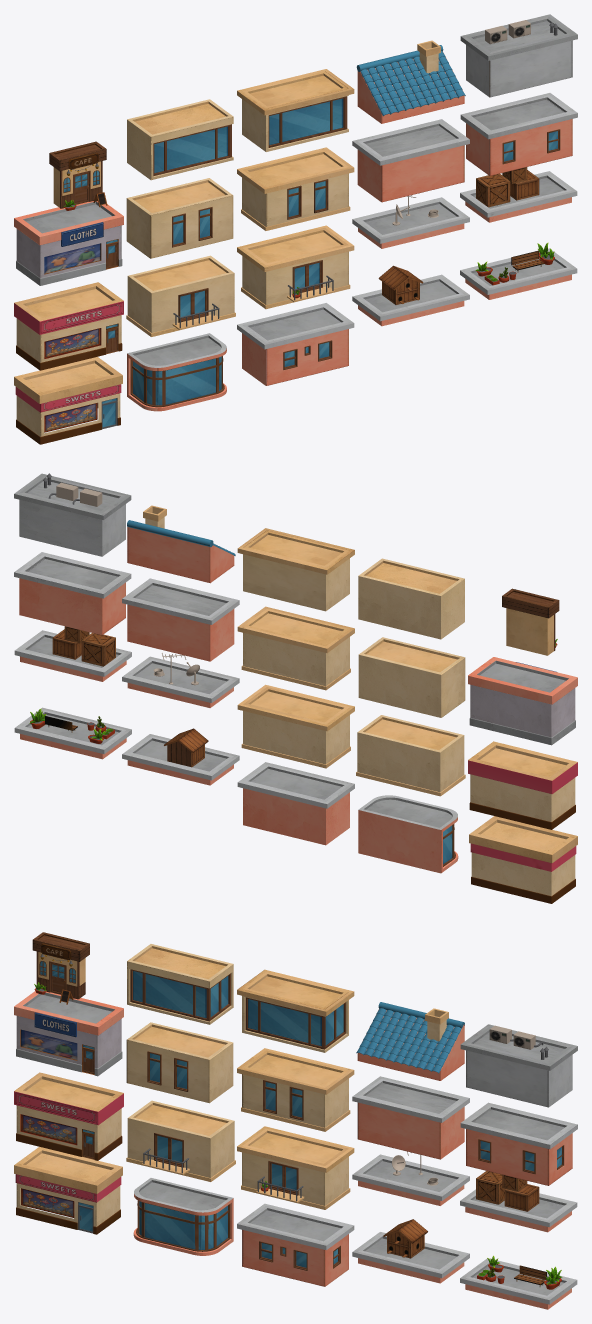
Rendered from City_Game_ready_free.glb.
3 views of the same model, one above another, from view 1: azimuth 30°, elevation 25°; view 2: azimuth 150°, elevation 25°; view 3: azimuth 330°, elevation 25° (orthographic).
Parts seen in each view (by area): view 1: Building.001_Atlas_0, Building.013_Atlas_0, Building.002_Atlas_0, Cube.002_Plate_Atlas_0, Cube.002_Plate.001_Atlas_0, Cube.002_Plate.006_Atlas_0, Cube.002_Plate.005_Atlas_0, Cube.002_Plate.007_Atlas_0, Cube.002_Plate.004_Atlas_0, Cube.002_Plate.002_Atlas_0, Cube_Atlas_0, Cube.002_Plate.003_Atlas_0 (+11 smaller); view 2: Building.001_Atlas_0, Building.002_Atlas_0, Building.013_Atlas_0, Cube.002_Plate.001_Atlas_0, Cube.002_Plate_Atlas_0, Cube.002_Plate.006_Atlas_0, Cube.002_Plate.004_Atlas_0, Cube.002_Plate.005_Atlas_0, Cube.002_Plate.007_Atlas_0, Cube.002_Plate.002_Atlas_0, Cube_Atlas_0, Cube.002_Plate.003_Atlas_0 (+11 smaller); view 3: Building.001_Atlas_0, Building.013_Atlas_0, Building.002_Atlas_0, Cube.002_Plate_Atlas_0, Cube.002_Plate.001_Atlas_0, Cube.002_Plate.006_Atlas_0, Cube.002_Plate.005_Atlas_0, Cube.002_Plate.004_Atlas_0, Cube.002_Plate.007_Atlas_0, Cube.002_Plate.002_Atlas_0, Cube_Atlas_0, Cube.002_Plate.003_Atlas_0 (+11 smaller).
Boxes of the visible parts, left/top/right/bottom form: Building.001_Atlas_0: left=14, top=282, right=123, bottom=370; Building.013_Atlas_0: left=14, top=357, right=122, bottom=444; Building.002_Atlas_0: left=14, top=201, right=123, bottom=285; Cube.002_Plate_Atlas_0: left=237, top=147, right=354, bottom=230; Cube.002_Plate.001_Atlas_0: left=237, top=225, right=354, bottom=309; Cube.002_Plate.006_Atlas_0: left=352, top=119, right=469, bottom=202; Cube.002_Plate.005_Atlas_0: left=237, top=303, right=354, bottom=385; Cube.002_Plate.007_Atlas_0: left=460, top=93, right=577, bottom=175; Cube.002_Plate.004_Atlas_0: left=237, top=69, right=354, bottom=151; Cube.002_Plate.002_Atlas_0: left=126, top=255, right=235, bottom=336; Cube_Atlas_0: left=126, top=178, right=233, bottom=258; Cube.002_Plate.003_Atlas_0: left=127, top=99, right=233, bottom=180; Building.001_Atlas_0: left=468, top=741, right=577, bottom=829; Building.002_Atlas_0: left=468, top=657, right=577, bottom=745; Building.013_Atlas_0: left=469, top=816, right=577, bottom=903; Cube.002_Plate.001_Atlas_0: left=237, top=684, right=354, bottom=768; Cube.002_Plate_Atlas_0: left=237, top=606, right=354, bottom=690; Cube.002_Plate.006_Atlas_0: left=122, top=578, right=239, bottom=661; Cube.002_Plate.004_Atlas_0: left=237, top=528, right=354, bottom=611; Cube.002_Plate.005_Atlas_0: left=237, top=762, right=354, bottom=845; Cube.002_Plate.007_Atlas_0: left=14, top=552, right=131, bottom=635; Cube.002_Plate.002_Atlas_0: left=356, top=715, right=465, bottom=796; Cube_Atlas_0: left=358, top=637, right=465, bottom=717; Cube.002_Plate.003_Atlas_0: left=358, top=558, right=464, bottom=639; Building.001_Atlas_0: left=14, top=1072, right=123, bottom=1160; Building.013_Atlas_0: left=14, top=1147, right=122, bottom=1234; Building.002_Atlas_0: left=14, top=991, right=123, bottom=1076; Cube.002_Plate_Atlas_0: left=237, top=1048, right=354, bottom=1131; Cube.002_Plate.001_Atlas_0: left=237, top=1126, right=354, bottom=1209; Cube.002_Plate.006_Atlas_0: left=352, top=1076, right=469, bottom=1159; Cube.002_Plate.005_Atlas_0: left=237, top=1203, right=354, bottom=1286; Cube.002_Plate.004_Atlas_0: left=237, top=969, right=354, bottom=1052; Cube.002_Plate.007_Atlas_0: left=460, top=1102, right=577, bottom=1185; Cube.002_Plate.002_Atlas_0: left=126, top=1100, right=235, bottom=1181; Cube_Atlas_0: left=126, top=1022, right=233, bottom=1103; Cube.002_Plate.003_Atlas_0: left=127, top=944, right=233, bottom=1024.
Size of the model in its own units: 25.92 by 13.38 by 2.85.
Materials: 1 (1 with a texture image).
